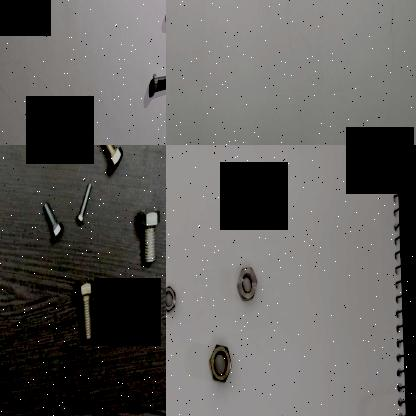Bolts: (73, 275, 97, 344), (136, 204, 160, 270), (72, 178, 93, 228), (40, 197, 62, 242), (91, 145, 125, 174), (124, 293, 138, 345), (148, 67, 166, 92)
NUTS: (205, 342, 233, 386), (233, 262, 258, 302), (166, 283, 177, 313)
